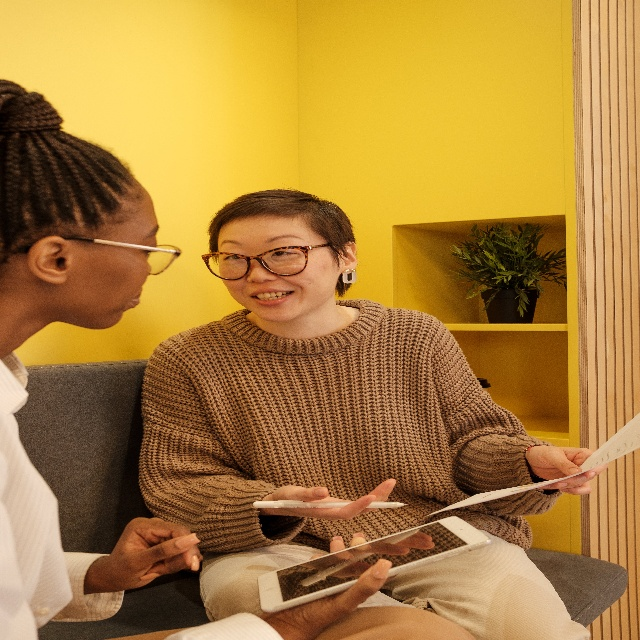Gafas: (201, 241, 334, 282), (63, 233, 182, 277)
Sin_guantes: (263, 531, 392, 632), (107, 516, 205, 592), (269, 476, 396, 521), (525, 442, 609, 496)
